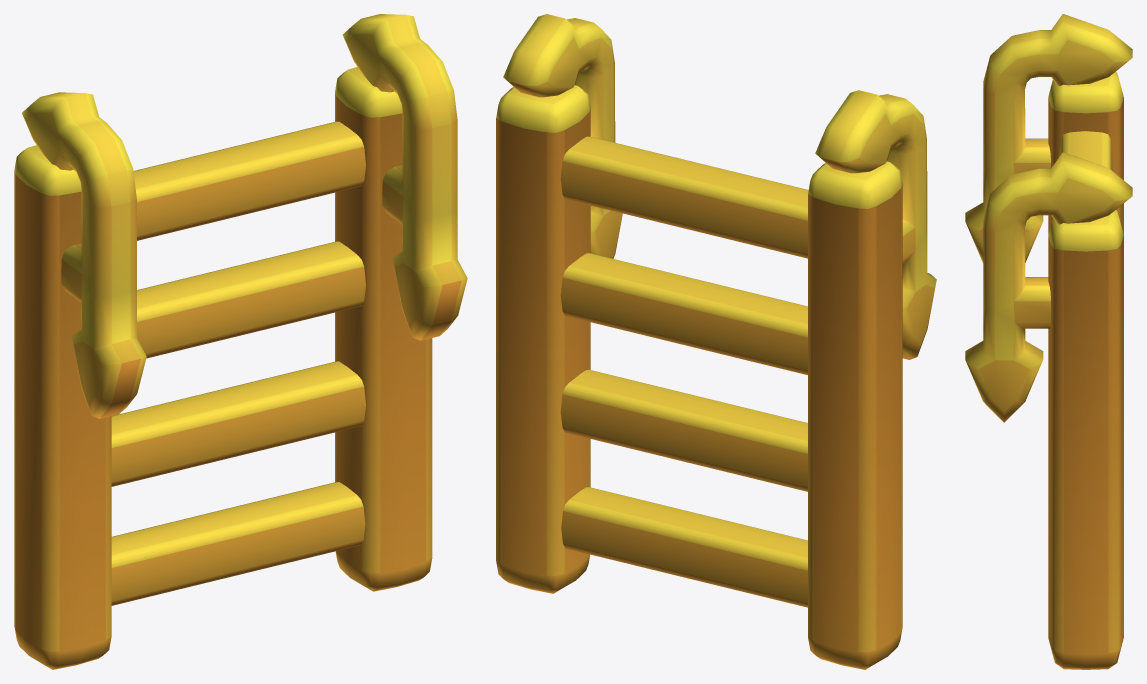
The model's file is Gold_Ladder_Top.fbx.
3 views of the same model, side by side, from view 1: azimuth 30°, elevation 25°; view 2: azimuth 150°, elevation 25°; view 3: azimuth 270°, elevation 25° (orthographic). The views are drawn at different scales.
Parts seen in each view (by area): view 1: Gold_Ladder_Top_LOD0; view 2: Gold_Ladder_Top_LOD0; view 3: Gold_Ladder_Top_LOD0.
Boxes of the visible parts, box(x1,y1,x2,y2) form: Gold_Ladder_Top_LOD0: box(14, 14, 467, 669); Gold_Ladder_Top_LOD0: box(496, 14, 936, 669); Gold_Ladder_Top_LOD0: box(965, 14, 1132, 669).
Size of what is drawn, in the model's own units: 0.8613 by 1.19 by 0.3586.
